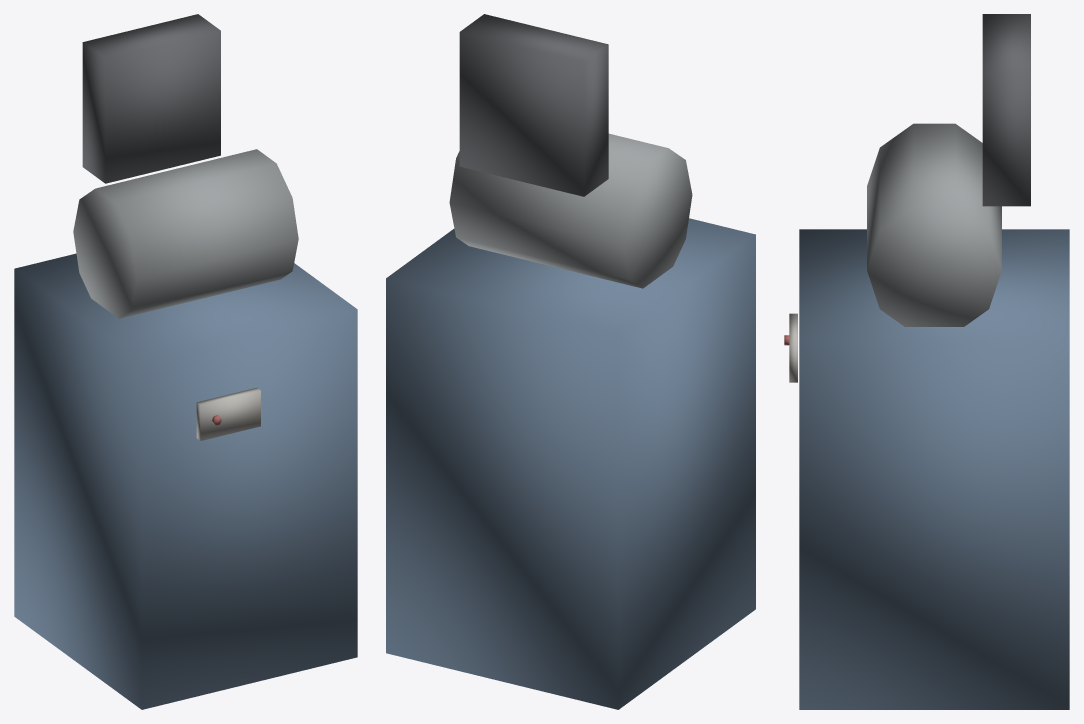
The model's file is wheel_balancer__compact.glb.
3 renders of one model, left to right at view 1: azimuth 30°, elevation 25°; view 2: azimuth 150°, elevation 25°; view 3: azimuth 270°, elevation 25°, orthographic. The views are drawn at different scales.
Visible parts, largest first — view 1: world; view 2: world; view 3: world.
Boxes of the visible parts, x1=… form: world: x1=14, y1=14, x2=357, y2=709; world: x1=386, y1=14, x2=755, y2=709; world: x1=784, y1=14, x2=1069, y2=709.
Bounding box in the file's own units: 0.4704 × 1.2 × 0.5083.
